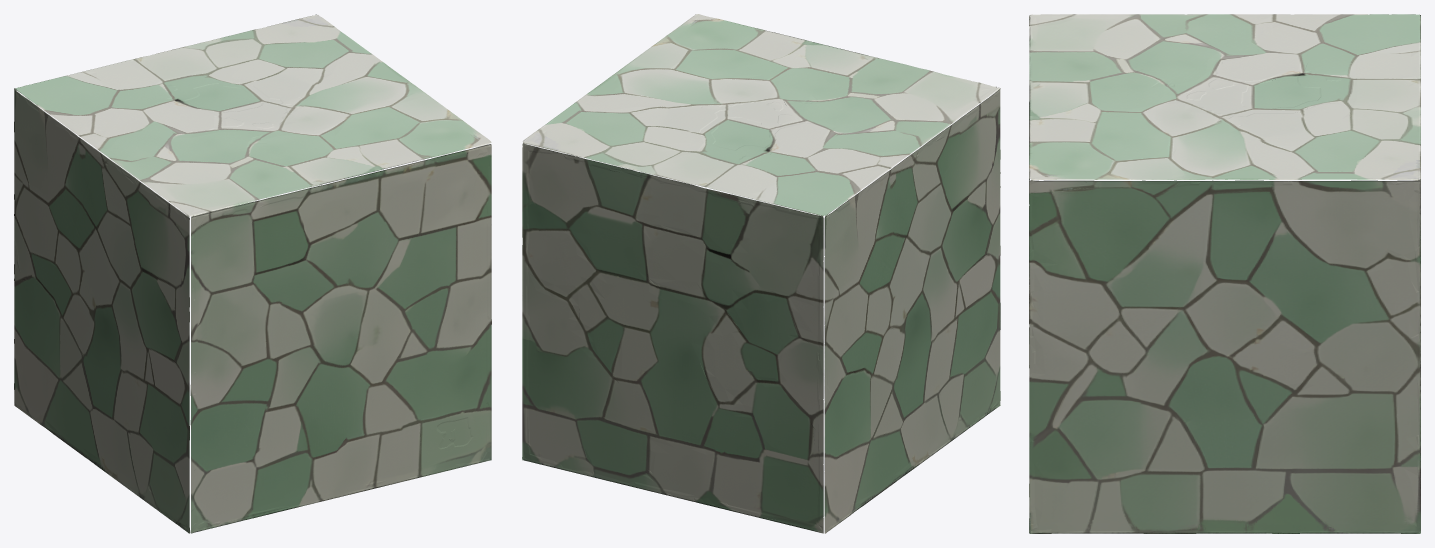
Rendered from s5_floor_tile.glb.
3 views of the same model, side by side, from view 1: azimuth 30°, elevation 25°; view 2: azimuth 150°, elevation 25°; view 3: azimuth 270°, elevation 25° (orthographic). The views are drawn at different scales.
Parts seen in each view (by area): view 1: world; view 2: world; view 3: world.
Part boxes in pixels (left/top/right/bottom): world: left=14, top=14, right=491, bottom=533; world: left=522, top=14, right=1000, bottom=533; world: left=1029, top=14, right=1420, bottom=533.
Bounding box in the file's own units: 1 × 1 × 1.
Materials: 1 (1 with a texture image).
